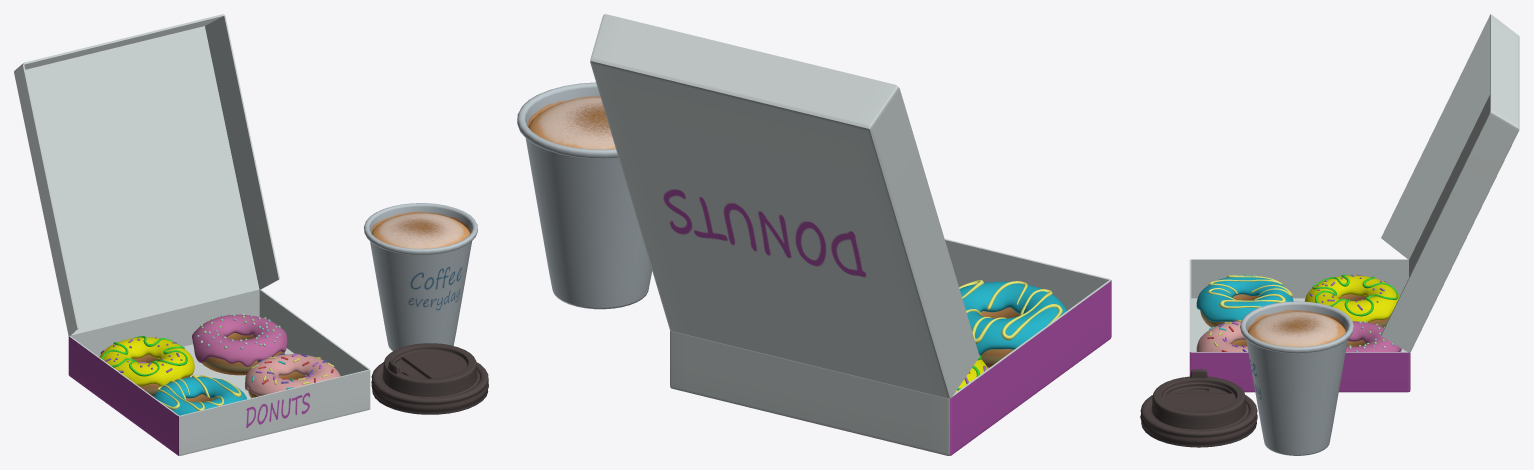
3 views of the same model, side by side, from view 1: azimuth 30°, elevation 25°; view 2: azimuth 150°, elevation 25°; view 3: azimuth 270°, elevation 25° (orthographic). The views are drawn at different scales.
Visible parts, largest first — view 1: dounuts_box, coffee, donut2, donut4, donut1, donut3; view 2: dounuts_box, coffee, donut3; view 3: dounuts_box, coffee, donut3, donut4, donut1, donut2.
Part boxes in pixels (x1,y1,x2,y2): dounuts_box: (14, 14, 370, 455); coffee: (364, 203, 488, 414); donut2: (192, 313, 287, 375); donut4: (99, 336, 194, 396); donut1: (245, 353, 340, 398); donut3: (153, 375, 246, 415); dounuts_box: (590, 14, 1111, 455); coffee: (517, 82, 652, 309); donut3: (959, 280, 1067, 367); dounuts_box: (1189, 14, 1519, 392); coffee: (1140, 301, 1353, 455); donut3: (1196, 275, 1293, 327); donut4: (1304, 274, 1399, 327); donut1: (1196, 319, 1248, 351); donut2: (1346, 321, 1401, 351).
Bounding box in the file's own units: 9.53 × 7.39 × 8.95.
Materials: 10 (10 with a texture image).
